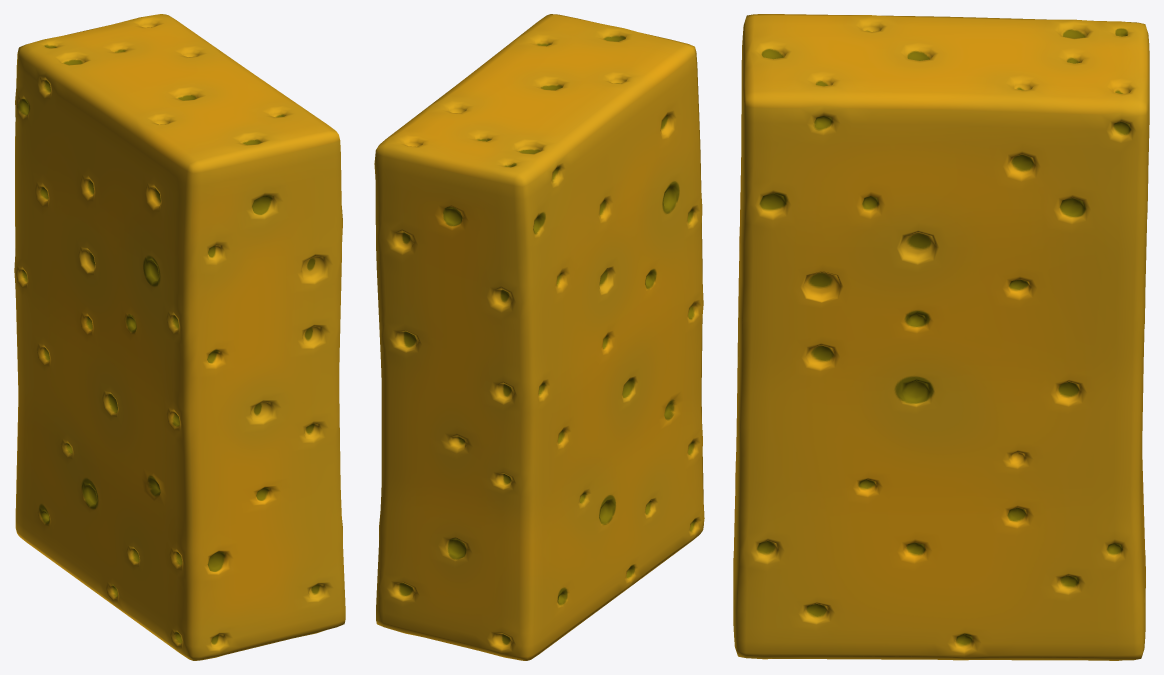
File: sponge_sm_2.fbx
3 views of the same model, side by side, from view 1: azimuth 30°, elevation 25°; view 2: azimuth 150°, elevation 25°; view 3: azimuth 270°, elevation 25° (orthographic). The views are drawn at different scales.
Visible parts, largest first — view 1: pCube2; view 2: pCube2; view 3: pCube2.
Part boxes in pixels (bbox=[...]): pCube2: bbox=[14, 14, 345, 660]; pCube2: bbox=[374, 14, 704, 660]; pCube2: bbox=[733, 14, 1149, 660].
Bounding box in the file's own units: 17.68 × 52.21 × 34.56.
